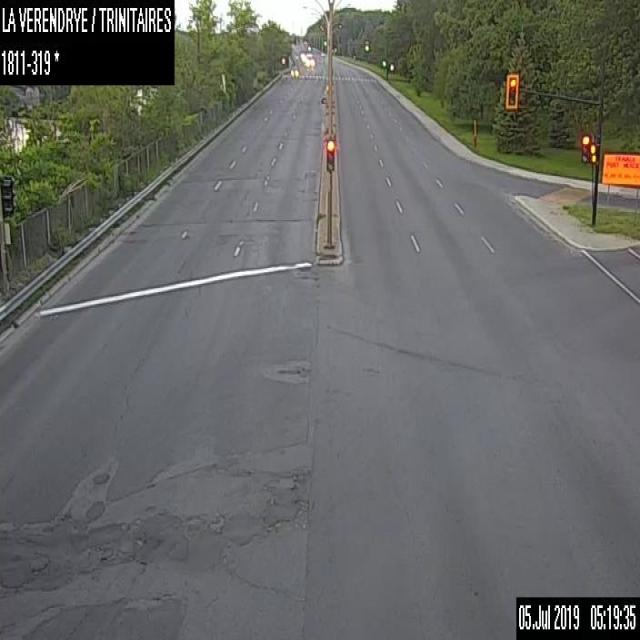vehicle: (300, 52, 314, 66), (289, 64, 298, 76)
